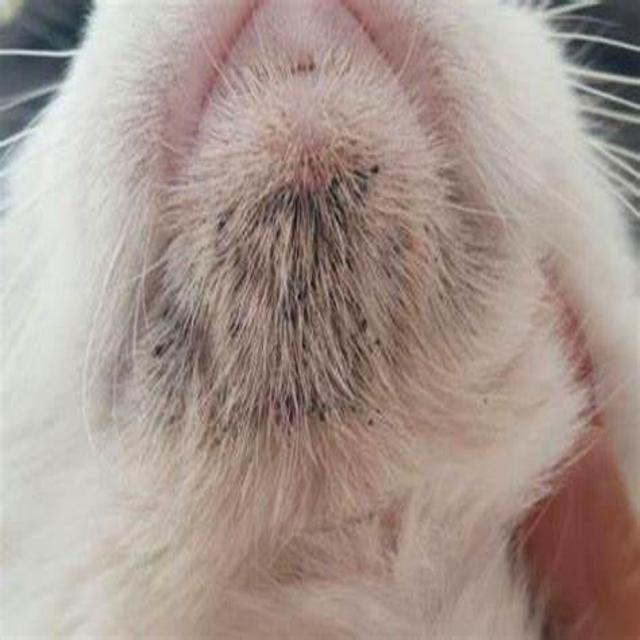acne: (155, 154, 428, 437)
